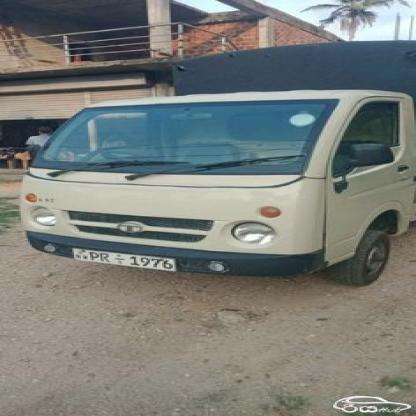Lorry front: (16, 41, 416, 289)
number plate: (61, 249, 175, 276)
